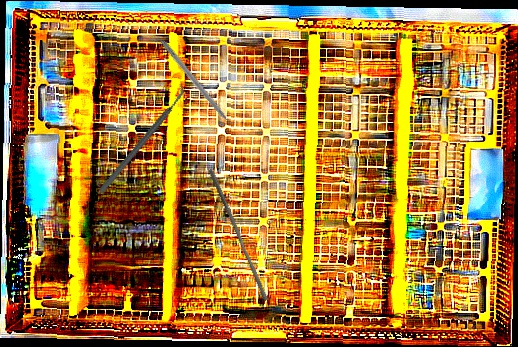Chopper: (72, 81, 212, 196)
Hook Surgical: (158, 38, 239, 135)
Pusher: (203, 168, 273, 302)
